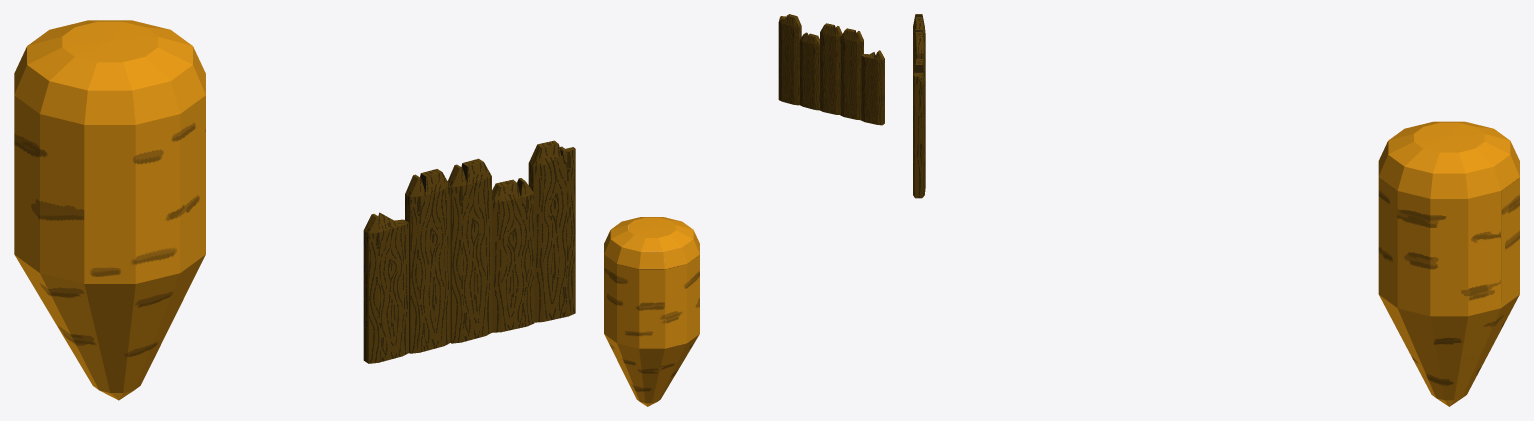
File: möhre und zaun.gltf
The picture shows the model from 3 angles, left to right: view 1: azimuth 30°, elevation 25°; view 2: azimuth 150°, elevation 25°; view 3: azimuth 270°, elevation 25°; orthographic projection. The views are drawn at different scales.
Parts seen in each view (by area): view 1: cylinder, beveled_cuboid (×5), sphere; view 2: cylinder, beveled_cuboid (×5), sphere; view 3: cylinder, sphere, beveled_cuboid.
Boxes of the visible parts, x1,y1,x2,y2 form: cylinder: (14,95,205,400); beveled_cuboid (×5): (363,140,575,363); sphere: (14,20,205,124); cylinder: (604,254,699,406); beveled_cuboid (×5): (778,14,884,125); sphere: (604,217,699,268); cylinder: (1378,177,1519,406); sphere: (1378,121,1519,198); beveled_cuboid: (913,58,925,198).
Bounding box in the file's own units: 0.939 × 2.17 × 3.22.
Materials: 2 (2 with a texture image).
